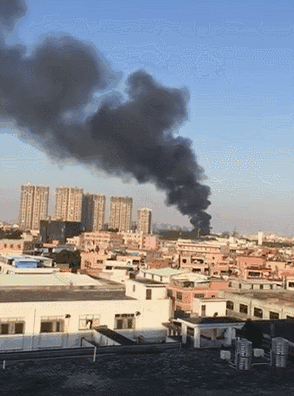smoke: (125, 76, 224, 238)
